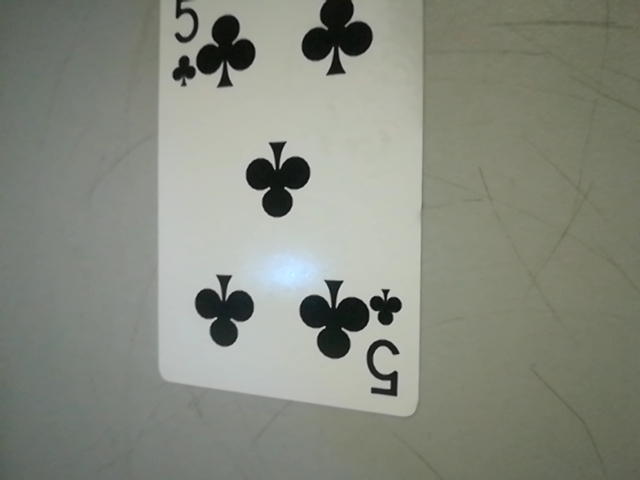mh 5: (365, 281, 417, 405)
